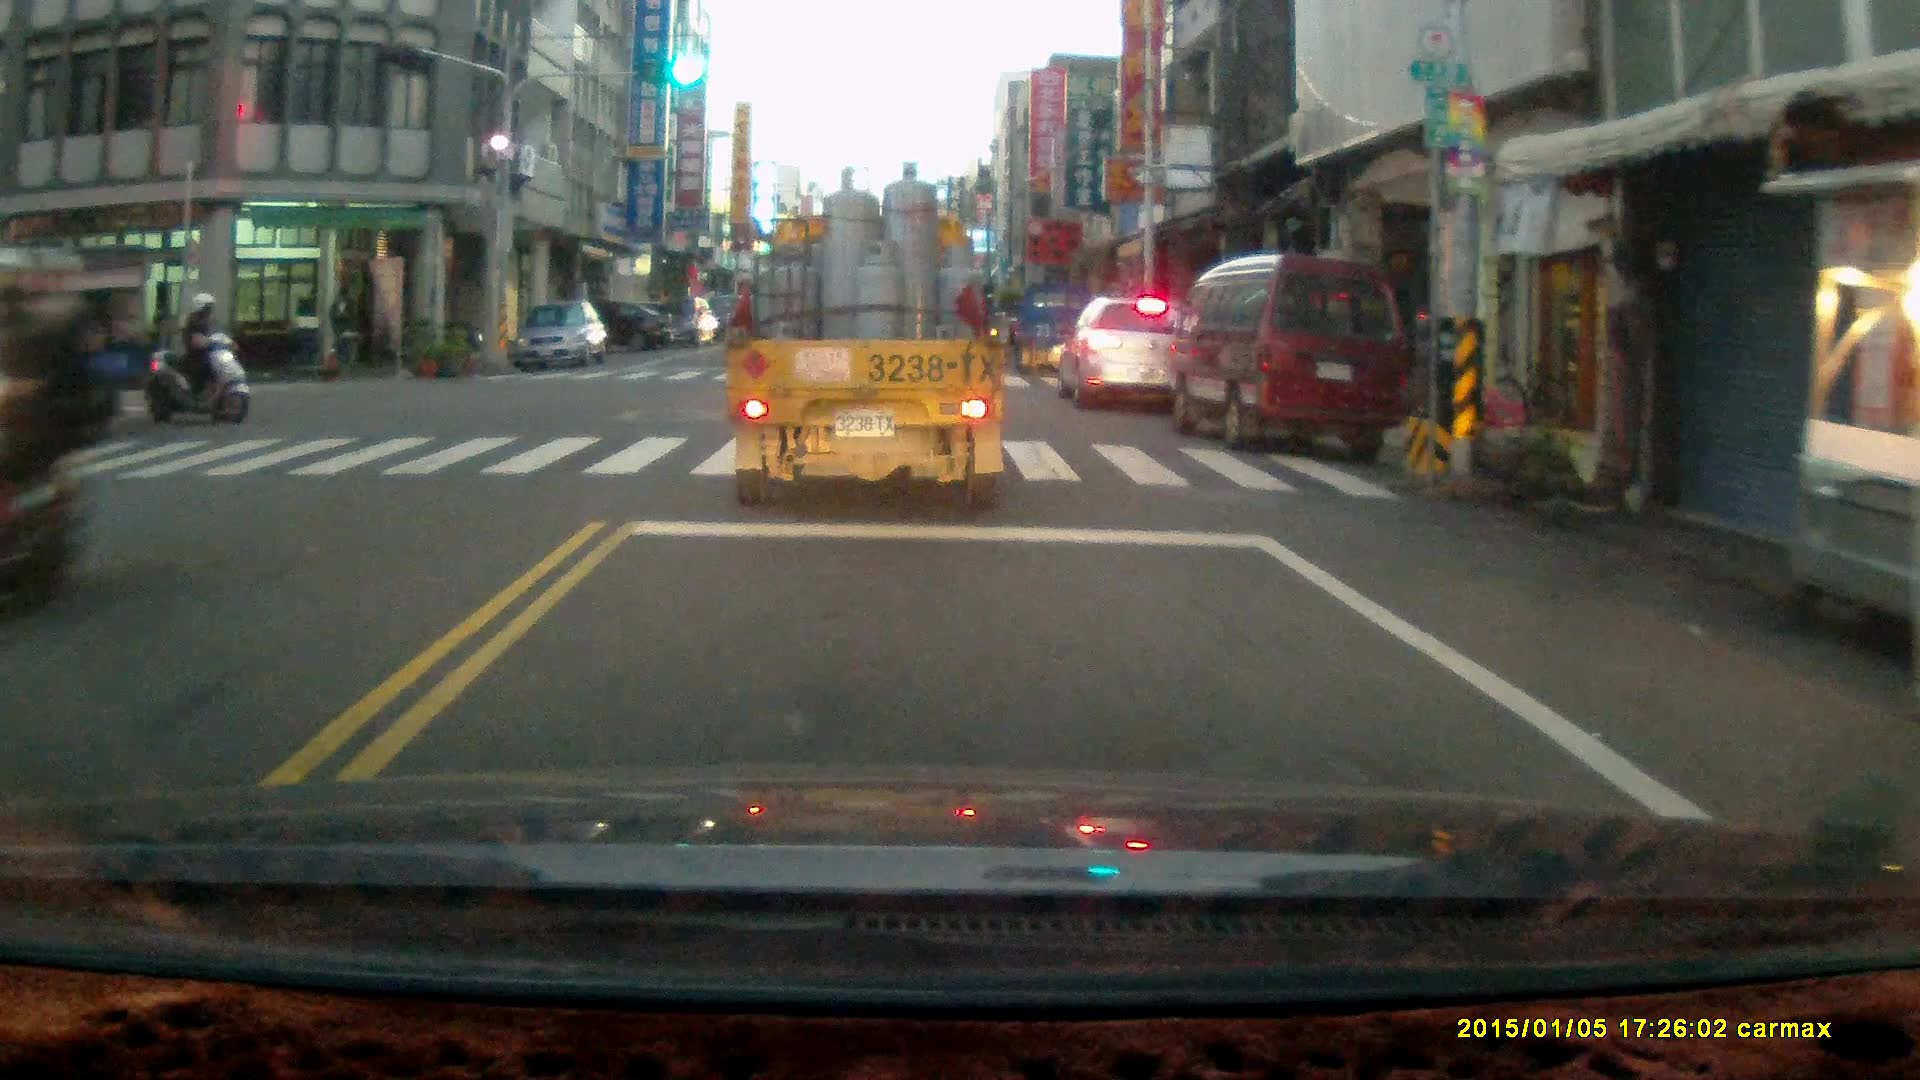pedestrian: (325, 281, 359, 378)
rider: (0, 240, 126, 619), (140, 288, 250, 421)
vehicle: (728, 163, 1016, 513), (1174, 251, 1418, 456), (1, 247, 147, 436), (1052, 289, 1208, 418), (1011, 282, 1099, 382), (546, 298, 675, 358), (514, 299, 612, 375), (637, 296, 718, 344)
